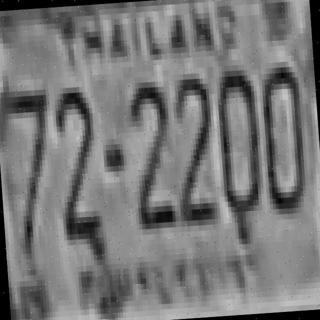N00: (213, 66, 263, 226), (257, 61, 307, 210)
N02: (52, 84, 100, 243), (168, 73, 215, 221), (126, 76, 173, 224)
N07: (0, 81, 55, 258)
